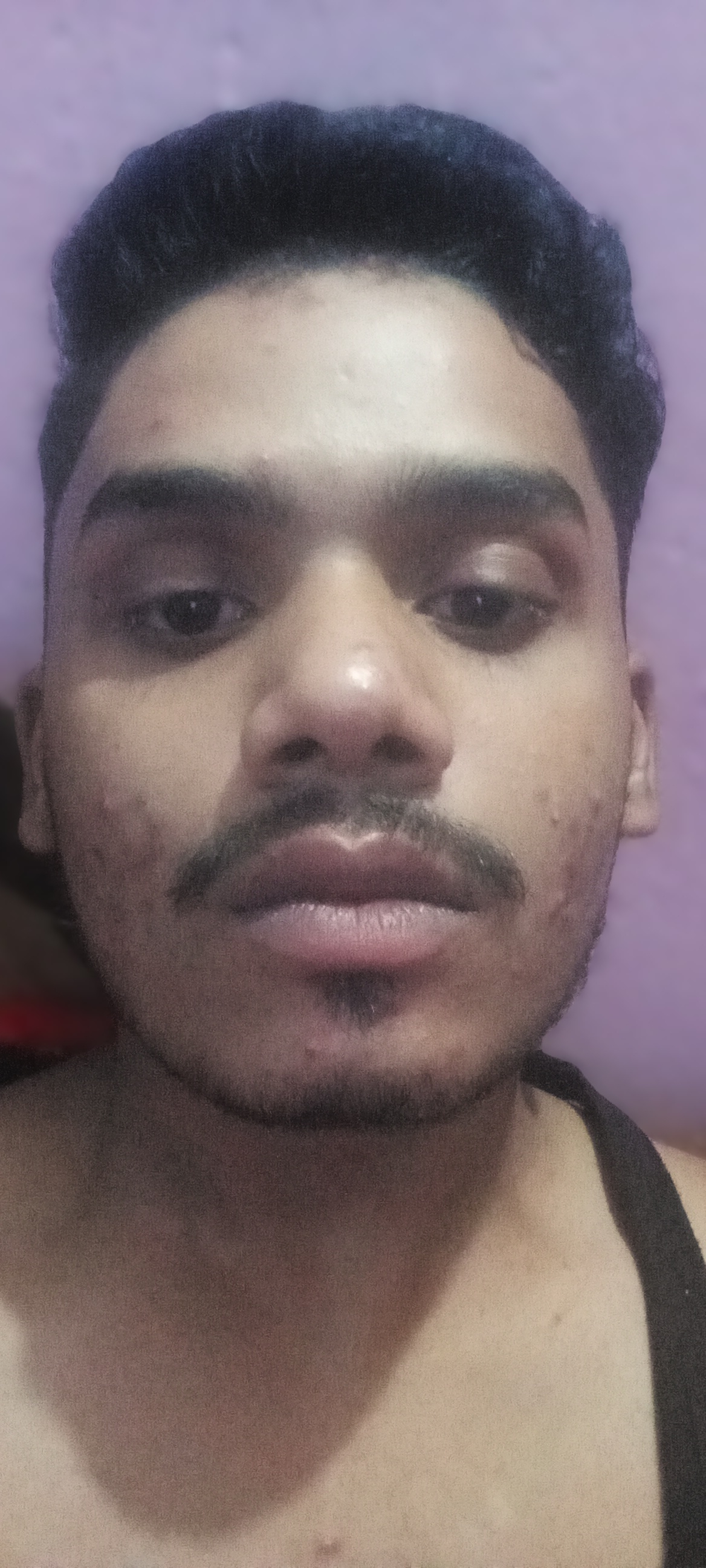closed_comedone: (236, 436, 281, 469)
papule: (296, 1030, 335, 1072)
